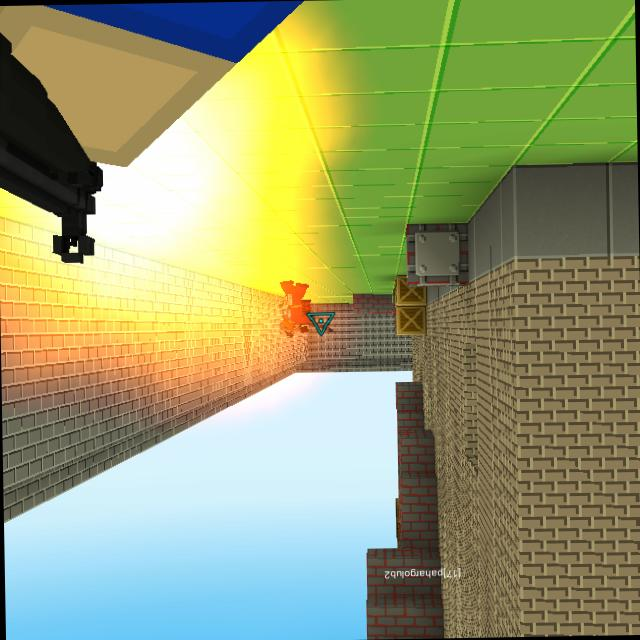enemy: (278, 278, 311, 336), (300, 297, 314, 335)
